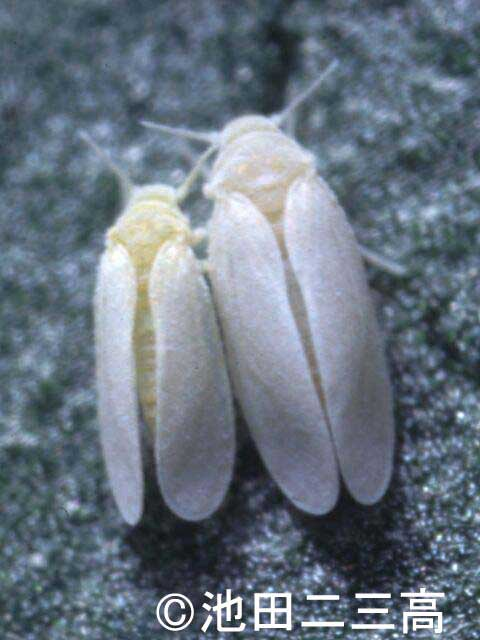Tobacco Whitefly: (226, 47, 409, 540), (74, 129, 229, 521)
